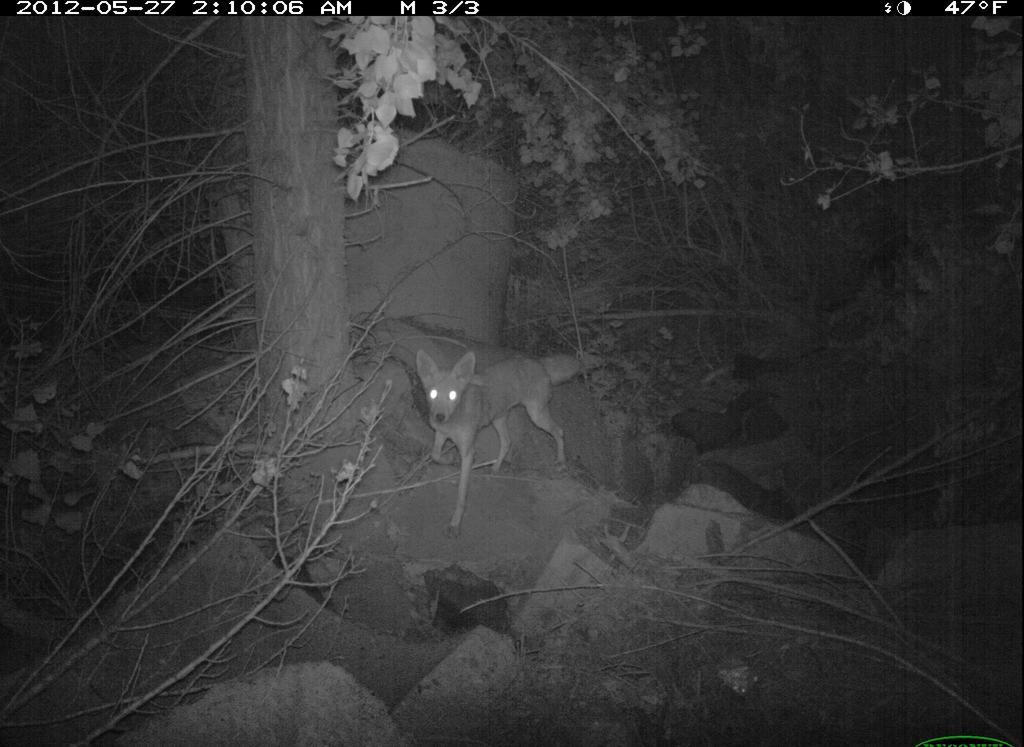coyote: (414, 338, 592, 533)
